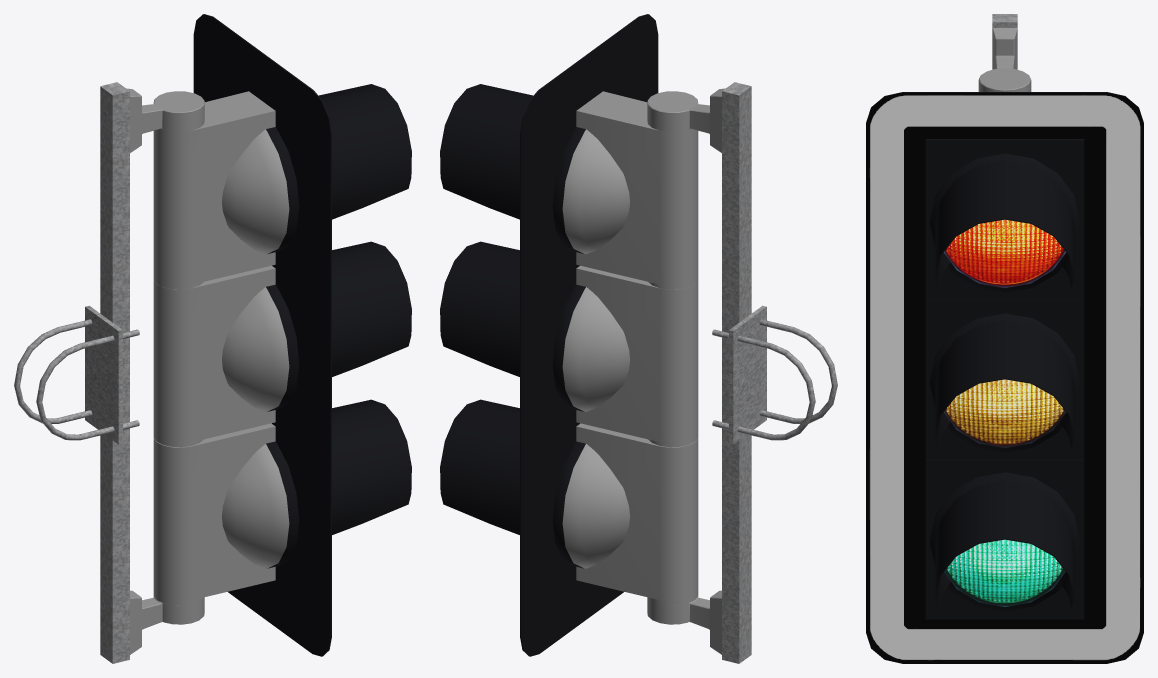
Rendered from Ampel_Standard_Ausleger.glb.
The picture shows the model from 3 angles, left to right: view 1: azimuth 30°, elevation 25°; view 2: azimuth 150°, elevation 25°; view 3: azimuth 270°, elevation 25°; orthographic projection.
Visible parts, largest first — view 1: Kontrastblende.001, Cube.004, Cube.005, Cube.015, Cube.003, Sonnenblende.013, Sonnenblende.011, Sonnenblende.012, BezierCurve.015, BezierCurve.014, BezierCurve.013, Cube.016 (+3 smaller); view 2: Kontrastblende.001, Cube.004, Cube.005, Cube.015, Cube.003, Sonnenblende.013, Sonnenblende.011, Sonnenblende.012, BezierCurve.015, BezierCurve.014, BezierCurve.013, Cube.016 (+3 smaller); view 3: Kontrastblende.001, Blende.013, Blende.012, Blende.011, Sonnenblende.011, Sonnenblende.013, Sonnenblende.012, BezierCurve.013, BezierCurve.014, BezierCurve.015, Masthalterung.008.
Boxes of the visible parts, x1,y1,x2,y2 form: Kontrastblende.001: [193, 14, 331, 656]; Cube.004: [153, 91, 275, 289]; Cube.005: [153, 423, 275, 605]; Cube.015: [100, 82, 129, 663]; Cube.003: [153, 265, 275, 447]; Sonnenblende.013: [319, 84, 411, 219]; Sonnenblende.011: [332, 399, 411, 534]; Sonnenblende.012: [332, 241, 411, 376]; BezierCurve.015: [222, 127, 299, 254]; BezierCurve.014: [222, 284, 299, 411]; BezierCurve.013: [222, 441, 299, 568]; Cube.016: [85, 305, 122, 444]; Kontrastblende.001: [520, 14, 658, 656]; Cube.004: [576, 91, 698, 289]; Cube.005: [576, 423, 698, 605]; Cube.015: [722, 82, 751, 663]; Cube.003: [576, 265, 698, 447]; Sonnenblende.013: [440, 84, 532, 219]; Sonnenblende.011: [440, 399, 519, 534]; Sonnenblende.012: [440, 241, 519, 376]; BezierCurve.015: [552, 127, 629, 254]; BezierCurve.014: [552, 284, 629, 411]; BezierCurve.013: [552, 441, 629, 568]; Cube.016: [729, 305, 766, 444]; Kontrastblende.001: [866, 92, 1143, 663]; Blende.013: [925, 139, 1084, 299]; Blende.012: [925, 299, 1084, 459]; Blende.011: [925, 459, 1084, 619]; Sonnenblende.011: [935, 480, 1074, 608]; Sonnenblende.013: [935, 160, 1074, 288]; Sonnenblende.012: [935, 320, 1074, 448]; BezierCurve.013: [930, 472, 1079, 611]; BezierCurve.014: [930, 313, 1079, 452]; BezierCurve.015: [930, 153, 1079, 292]; Masthalterung.008: [978, 28, 1031, 91].
Bounding box in the file's own units: 0.6636 × 1 × 0.4378.
7 materials, 7 textured.
